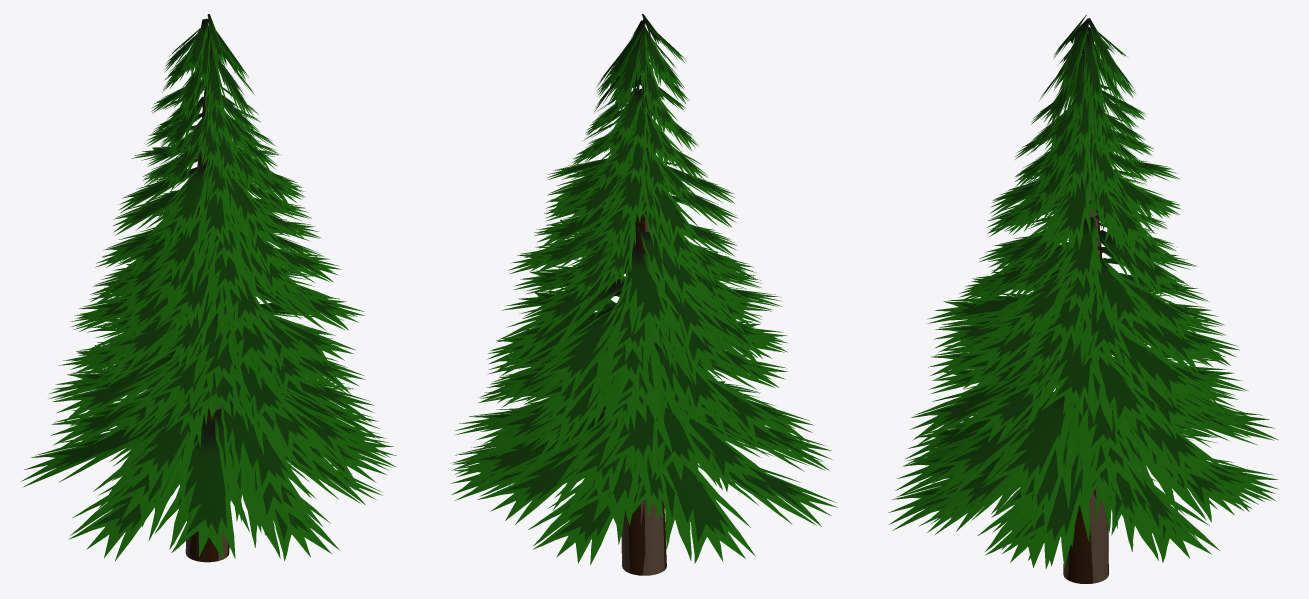
Rendered from sapin.FBX.
3 views of the same model, side by side, from view 1: azimuth 30°, elevation 25°; view 2: azimuth 150°, elevation 25°; view 3: azimuth 270°, elevation 25° (orthographic). The views are drawn at different scales.
Parts seen in each view (by area): view 1: sapin_tronc1; view 2: sapin_tronc1; view 3: sapin_tronc1.
Boxes of the visible parts, x1=… form: sapin_tronc1: x1=21, y1=14, x2=396, y2=562; sapin_tronc1: x1=451, y1=14, x2=837, y2=575; sapin_tronc1: x1=888, y1=15, x2=1278, y2=583.
Bounding box in the file's own units: 62.38 × 91.27 × 61.14.
